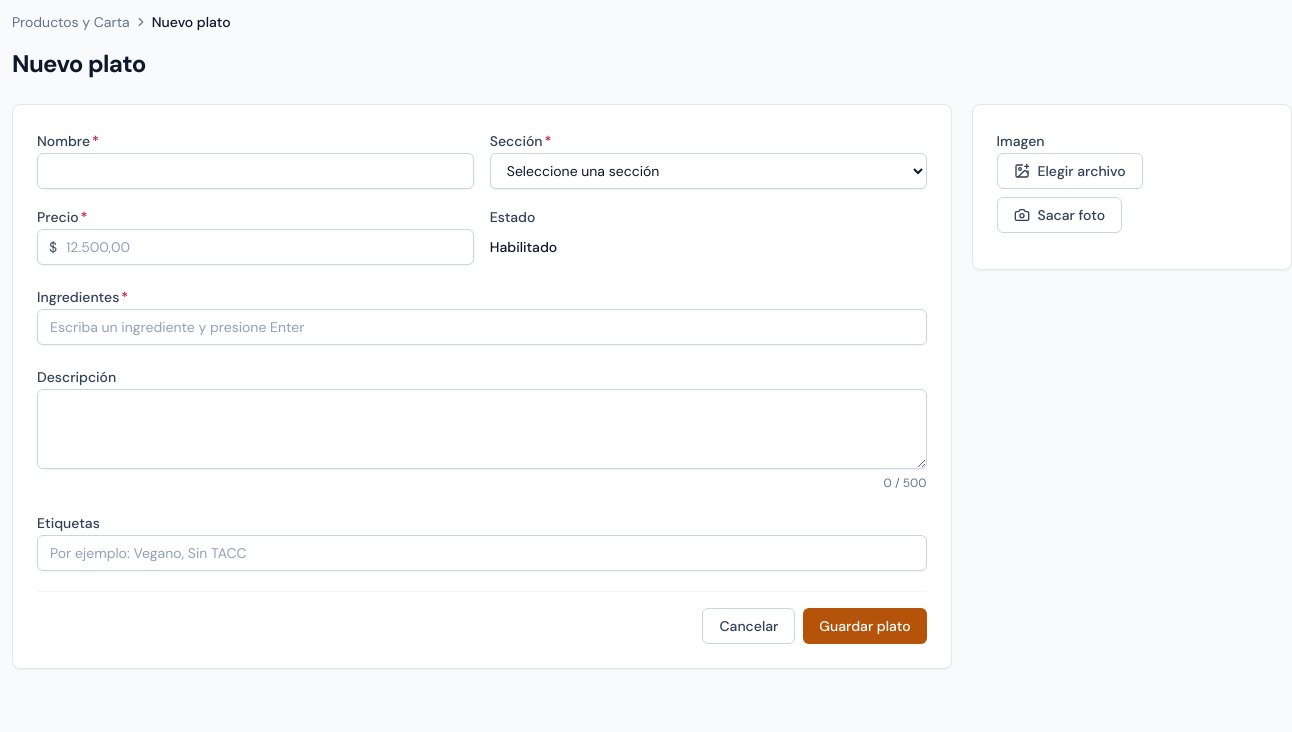
ProductoNuevoPage PLATO: validaciones › con campos vacíos no envía y marca cada campo obligatorio (CA 2)
Expected: the field labelled "Nombre*" is shown, [37, 153, 474, 189]
Click the button "Guardar plato": click(865, 626) [803, 608, 927, 644]
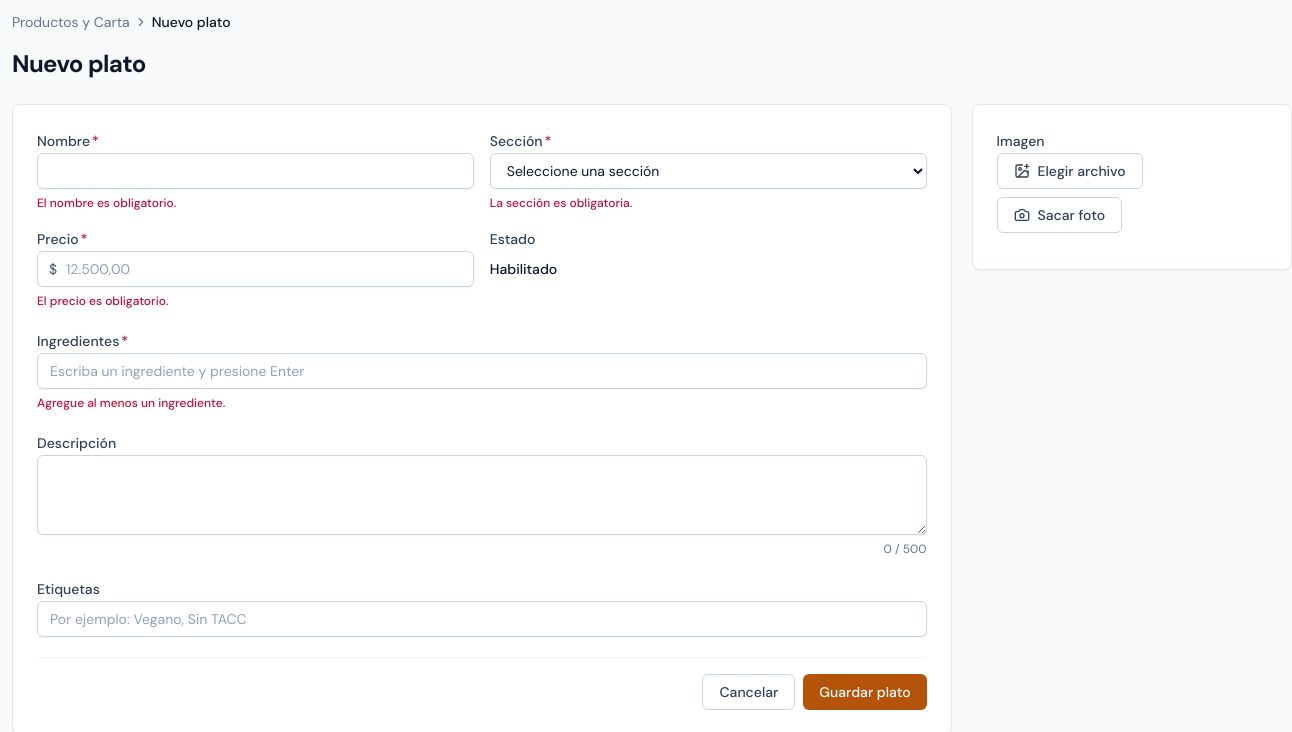
Now the text "El nombre es obligatorio." is shown, box [37, 195, 176, 211]
Now the text "La sección es obligatoria." is shown, box [490, 195, 632, 211]
Now the text "El precio es obligatorio." is shown, box [37, 293, 168, 309]
